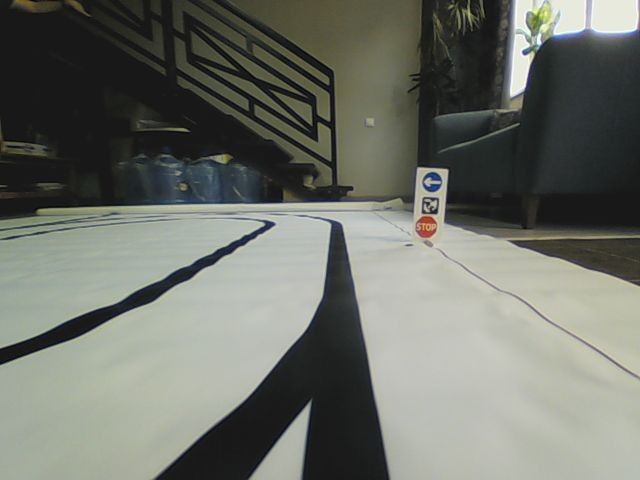Stop: (415, 215, 437, 238)
